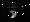person: (8, 5, 19, 18)
